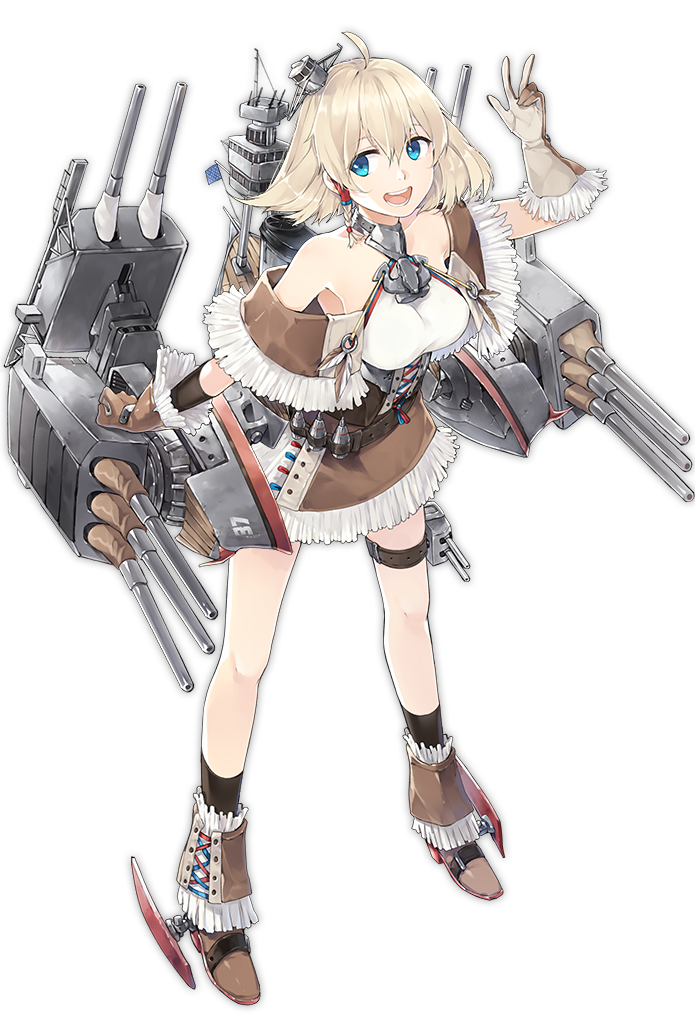person: (98, 46, 588, 762)
